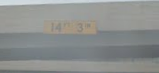1: (49, 20, 55, 33)
3: (74, 20, 84, 34)
4: (54, 21, 62, 34)
overheadsign: (42, 19, 97, 36)
